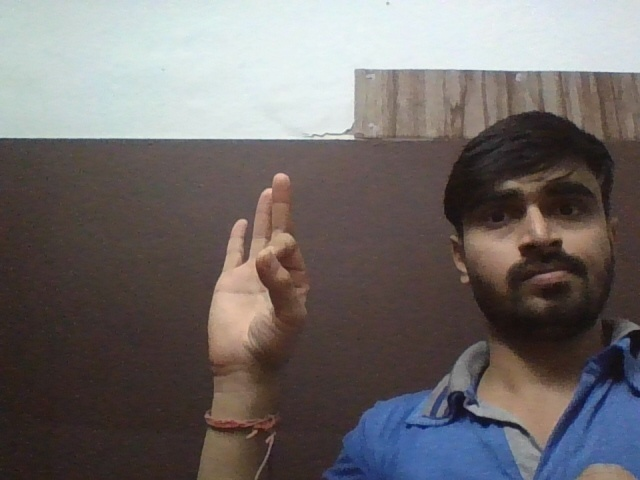F: (194, 163, 329, 379)
